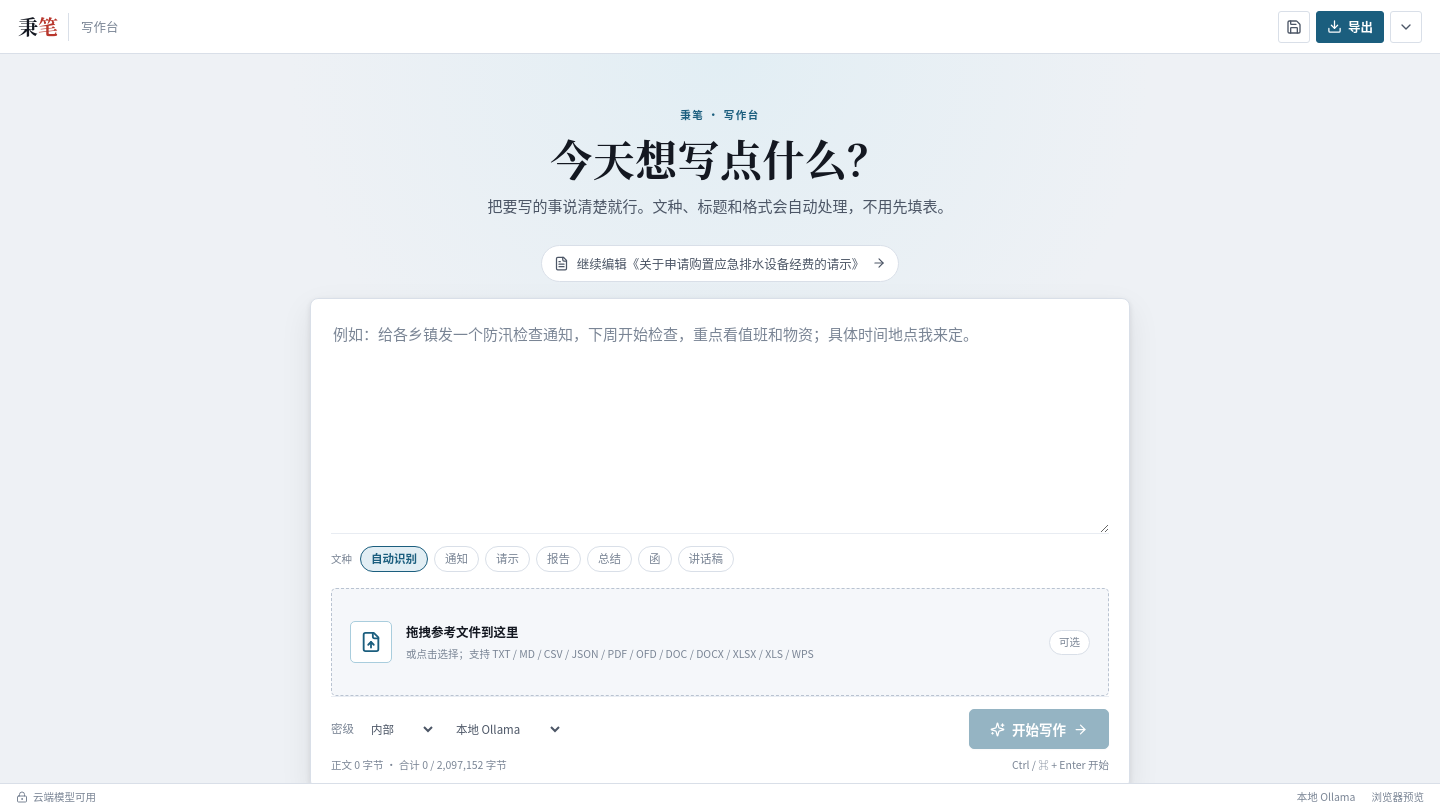
Test: App writing desk › continues the current document into the workspace
The width and height of the screenshot is (1440, 810).
Click the button "继续编辑《关于申请购置应急排水设备经费的请示》" at x=720, y=264, box [541,245,899,282]
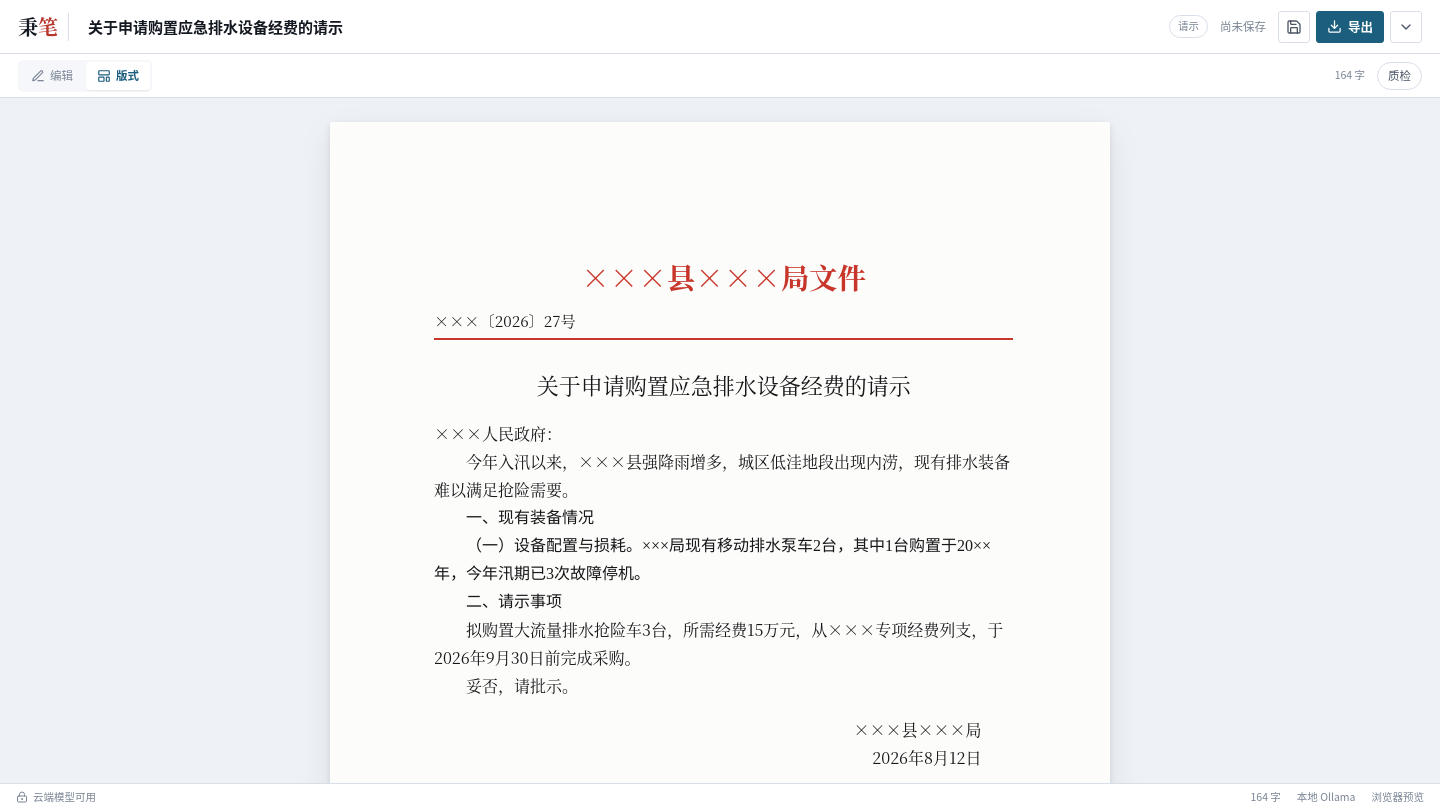
Result: the tab "版式" is shown at [86,62,150,90]
Result: the field named "公文标题" holds "关于申请购置应急排水设备经费的请示" at [81,9,1161,44]
Result: the button "质检" is shown at [1377,62,1422,90]
